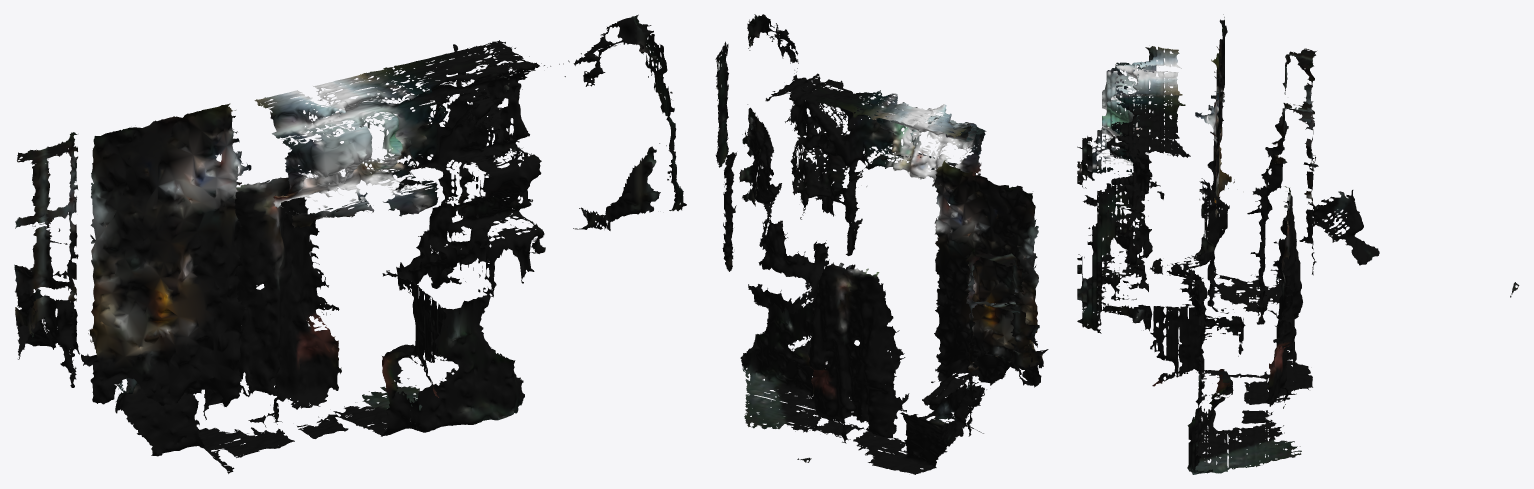
Rendered from color_model_f001_20251226_162543.obj.
The picture shows the model from 3 angles, left to right: view 1: azimuth 30°, elevation 25°; view 2: azimuth 150°, elevation 25°; view 3: azimuth 270°, elevation 25°; orthographic projection. The views are drawn at different scales.
Size of the model in its own units: 2.93 by 2.23 by 2.45.
